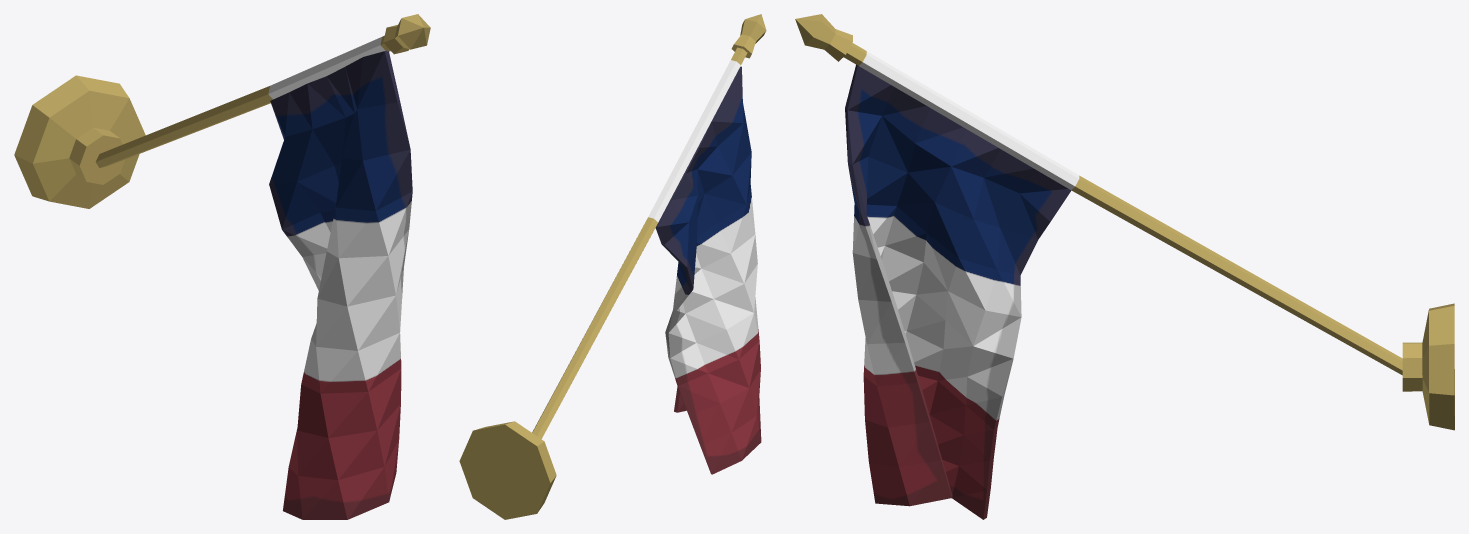
Rendered from SM_Env_Flag_Wall_01_France.fbx.
3 views of the same model, side by side, from view 1: azimuth 30°, elevation 25°; view 2: azimuth 150°, elevation 25°; view 3: azimuth 270°, elevation 25° (orthographic). The views are drawn at different scales.
Parts seen in each view (by area): view 1: SM_Env_Flag_Wall_01_France; view 2: SM_Env_Flag_Wall_01_France; view 3: SM_Env_Flag_Wall_01_France.
Part boxes in pixels (bbox=[...]): SM_Env_Flag_Wall_01_France: bbox=[14, 14, 430, 519]; SM_Env_Flag_Wall_01_France: bbox=[459, 14, 766, 519]; SM_Env_Flag_Wall_01_France: bbox=[795, 14, 1454, 519].
Bounding box in the file's own units: 0.00464 × 0.0195 × 0.0226.
